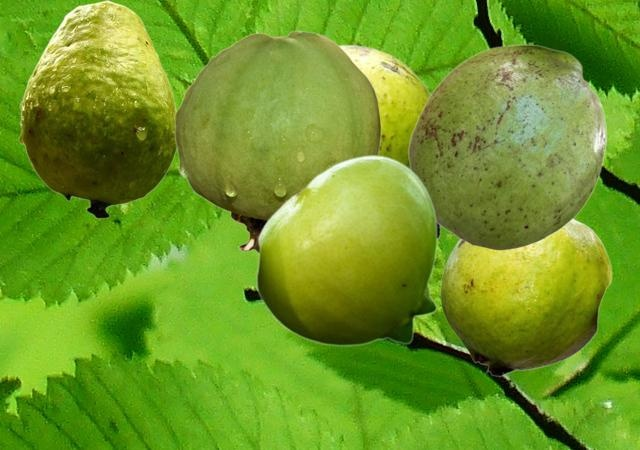guava: (174, 30, 381, 253), (407, 44, 606, 249), (255, 154, 437, 345), (18, 0, 176, 218), (440, 219, 611, 376), (339, 44, 441, 239)
